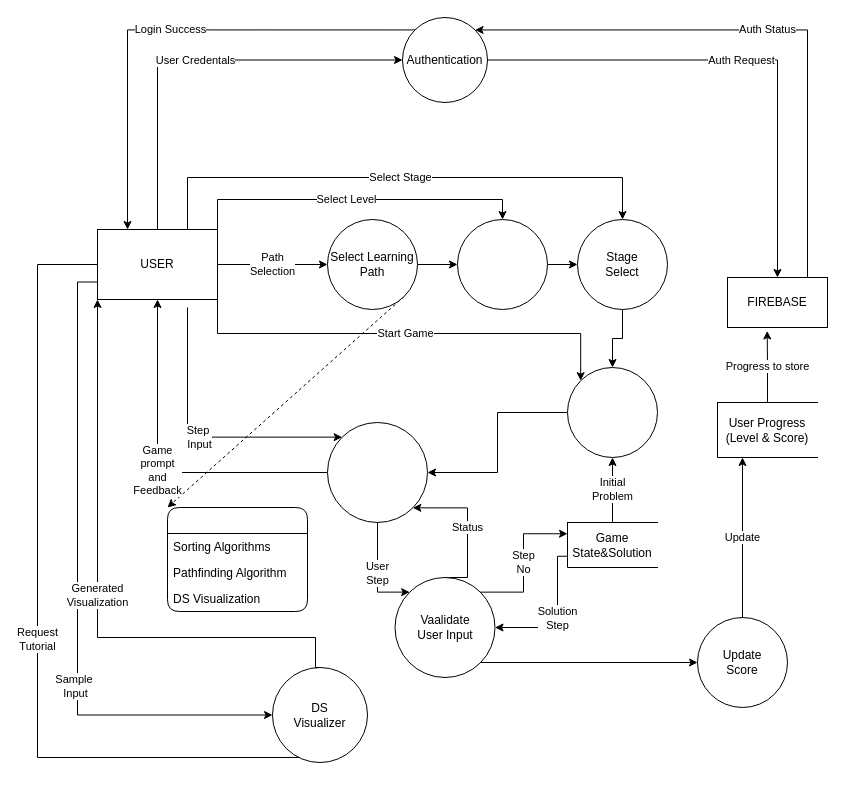
This 845x788 diagram has some shape labels left out. Each missing label, with the box of its shape:
Learning Paths: (166, 506, 308, 612)
Level Select: (456, 218, 548, 310)
Play Game: (566, 366, 658, 458)
Present Algorithm Step: (326, 422, 428, 522)
